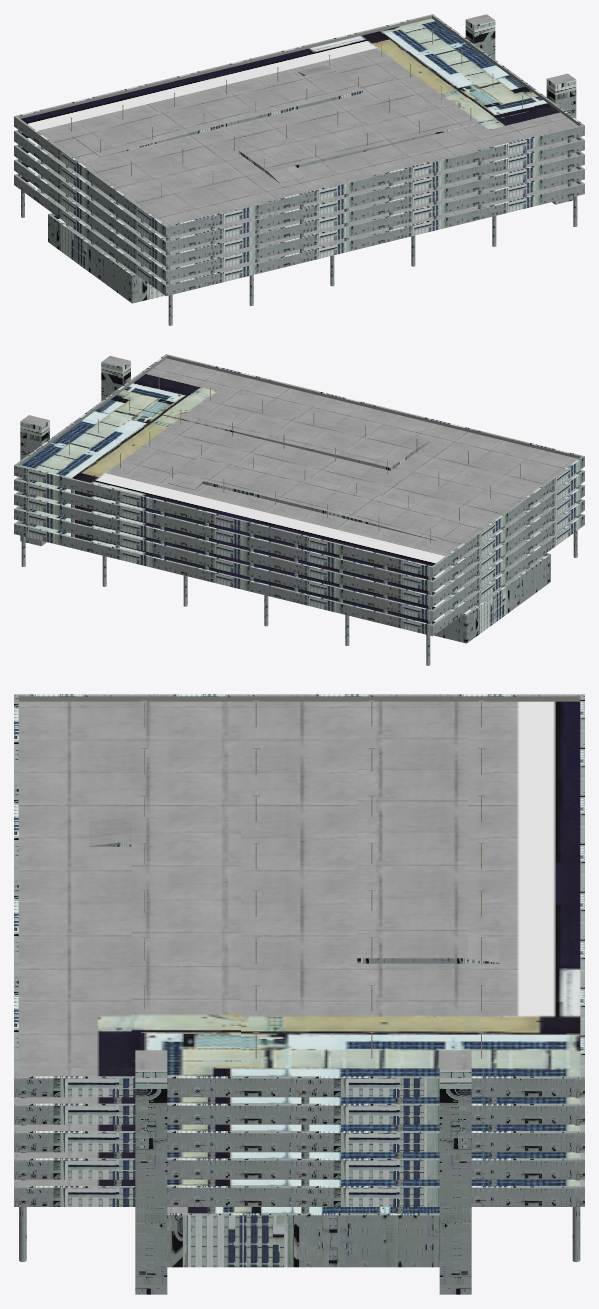
The model's file is Garage3.exact.glb.
3 renders of one model, top to bottom at view 1: azimuth 30°, elevation 25°; view 2: azimuth 150°, elevation 25°; view 3: azimuth 270°, elevation 25°, orthographic. The views are drawn at different scales.
Parts seen in each view (by area): view 1: Garage3; view 2: Garage3; view 3: Garage3.
Part boxes in pixels (box(x1,y1,x2,y2)): Garage3: box(14, 14, 584, 325); Garage3: box(14, 354, 584, 665); Garage3: box(14, 694, 584, 1294).
Size of the model in its own units: 159 by 41.04 by 94.39.
Materials: 1 (1 with a texture image).
